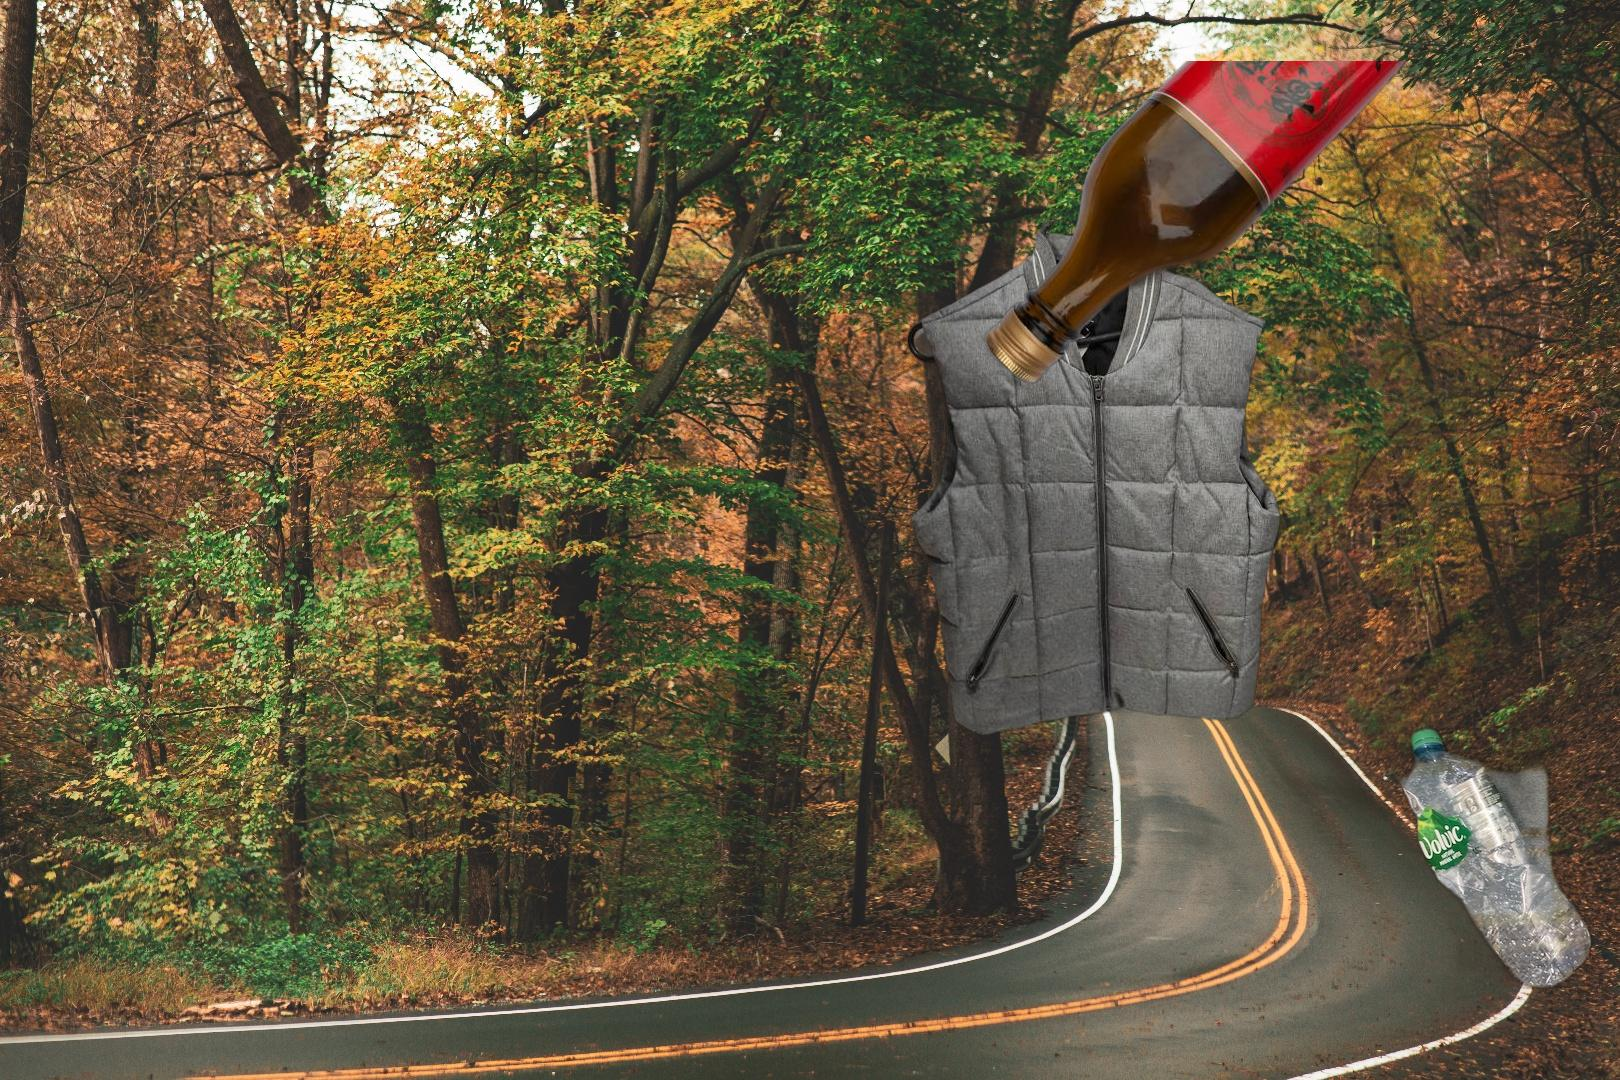clothes: (902, 221, 1284, 740)
glass: (980, 61, 1405, 385)
plastic-bottles: (1389, 722, 1620, 994)
